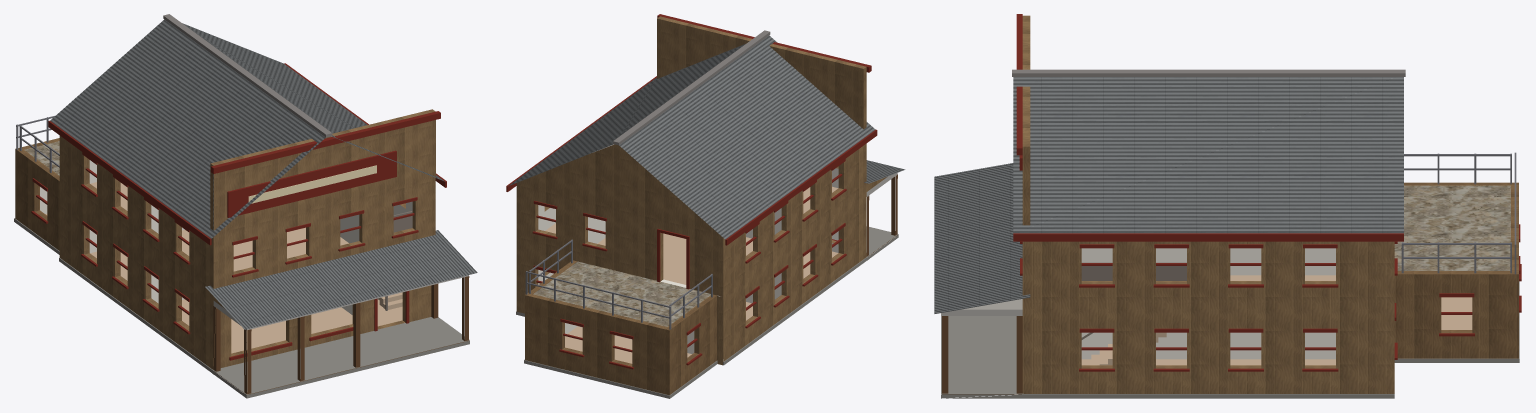
File: cr-feed-store.towns-v2.lod0.glb
3 views of the same model, side by side, from view 1: azimuth 30°, elevation 25°; view 2: azimuth 150°, elevation 25°; view 3: azimuth 270°, elevation 25° (orthographic). The views are drawn at different scales.
Visible parts, largest first — view 1: cr-feed-store; view 2: cr-feed-store; view 3: cr-feed-store.
Part boxes in pixels (x1,y1,x2,y2): cr-feed-store: (14, 14, 477, 398); cr-feed-store: (506, 14, 905, 398); cr-feed-store: (934, 14, 1521, 398).
Size of the model in its own units: 10.68 by 9.33 by 18.94.
6 materials, 3 textured.
